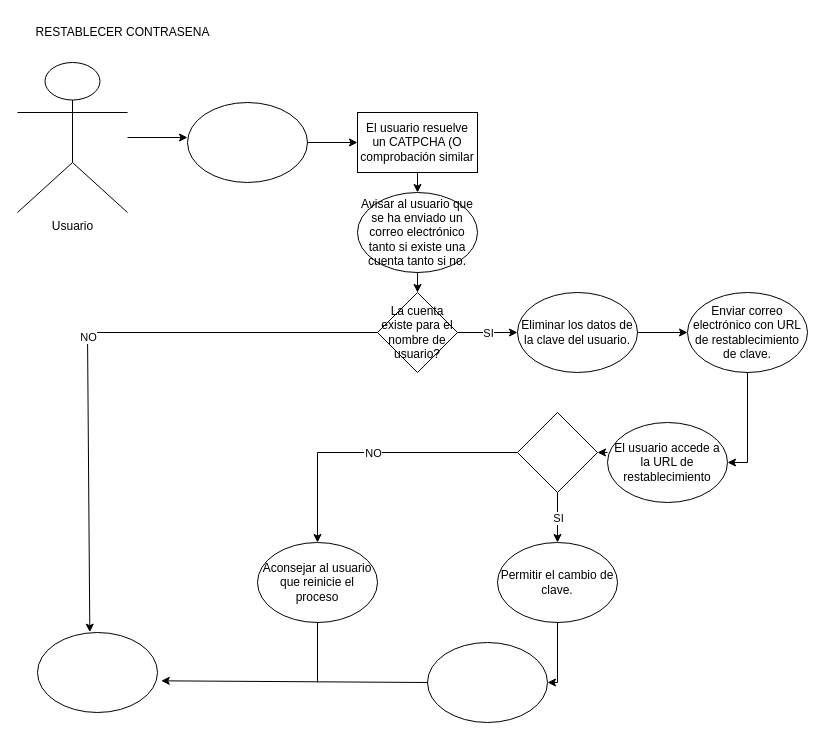
This 825x740 diagram has some shape labels left out. Here are the shapes that lost their labels. From the top down, the box of each, then its label:
(186, 102, 308, 182): introduce el nombre de usuario en el formulario de restablecimiento
(516, 412, 598, 492): Reiniciar clave?
(36, 632, 158, 712): FIN
(426, 642, 548, 722): Correo electrónico de confirmación de cambio de clave exitoso
